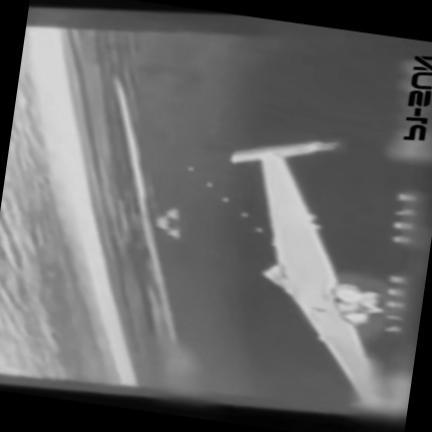Shahed: (229, 141, 383, 405)
